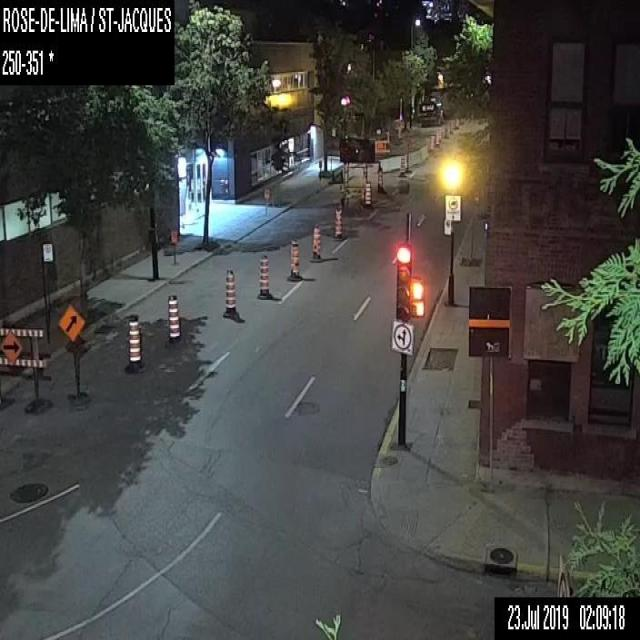construction: (0, 325, 49, 412), (56, 301, 88, 404), (338, 134, 374, 204), (123, 311, 145, 373), (166, 292, 186, 348), (222, 265, 240, 319), (256, 252, 273, 299), (286, 238, 302, 282), (310, 222, 323, 262), (332, 203, 345, 241), (404, 132, 412, 171), (362, 178, 373, 206), (375, 139, 389, 157), (396, 116, 404, 139), (429, 134, 435, 152), (399, 157, 405, 175), (170, 229, 177, 244), (435, 126, 441, 142), (378, 166, 382, 187), (262, 186, 269, 198), (317, 158, 323, 170), (444, 120, 450, 131), (0, 334, 5, 344), (0, 348, 5, 356)
vehicle: (421, 97, 443, 125)
